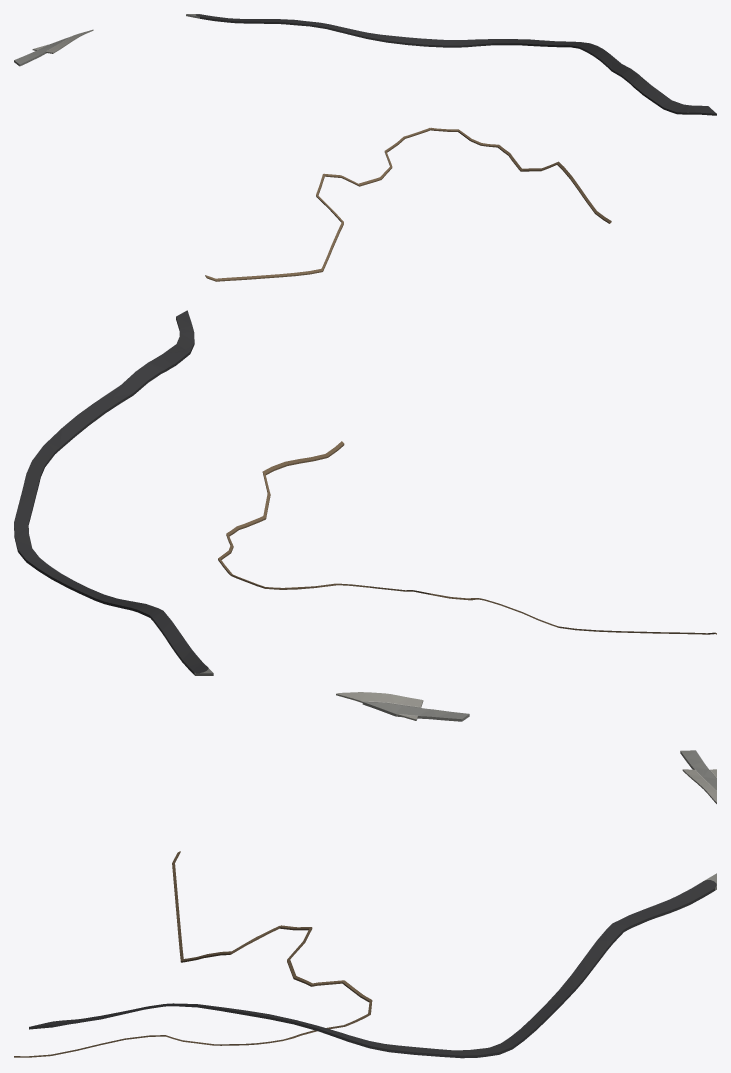
3 views of the same model, one above another, from view 1: azimuth 30°, elevation 25°; view 2: azimuth 150°, elevation 25°; view 3: azimuth 270°, elevation 25° (orthographic). The views are drawn at different scales.
Size of the model in its own units: 293 by 75.55 by 292.
